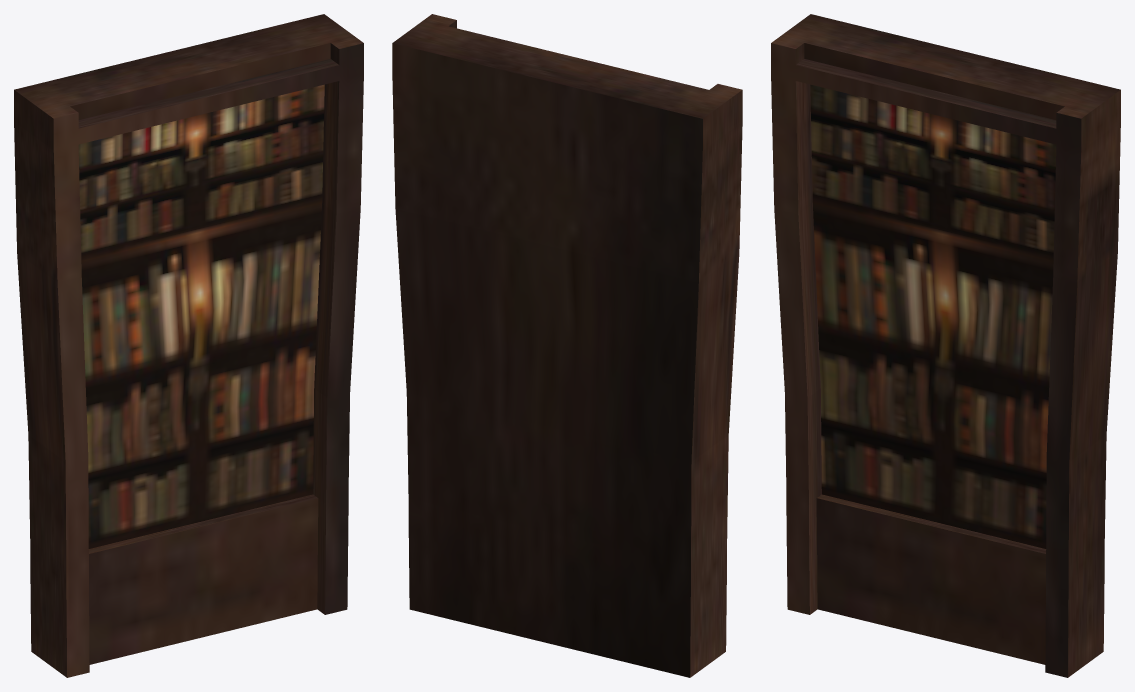
The model's file is Bookshelf 2.fbx.
3 views of the same model, side by side, from view 1: azimuth 30°, elevation 25°; view 2: azimuth 150°, elevation 25°; view 3: azimuth 330°, elevation 25° (orthographic).
Parts seen in each view (by area): view 1: Bookshelf 2; view 2: Bookshelf 2; view 3: Bookshelf 2.
Part boxes in pixels (x1,y1,x2,y2): Bookshelf 2: (14,14,363,677); Bookshelf 2: (392,14,742,677); Bookshelf 2: (771,14,1120,677).
Size of the model in its own units: 748 by 1299 by 169.
Materials: 1 (1 with a texture image).
